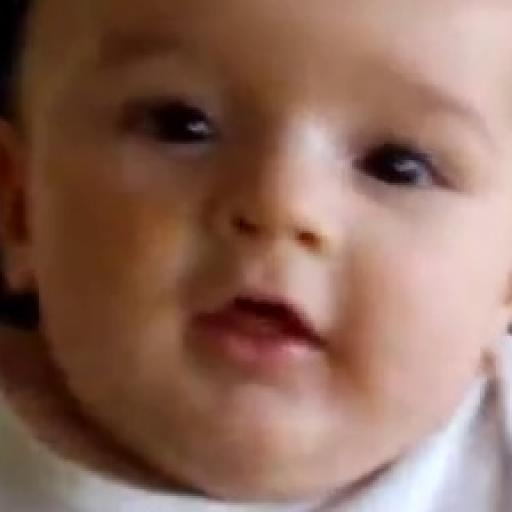Autism: (0, 1, 512, 512)
